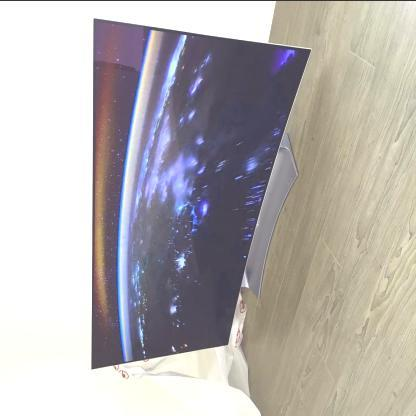TV: (84, 1, 320, 391)
